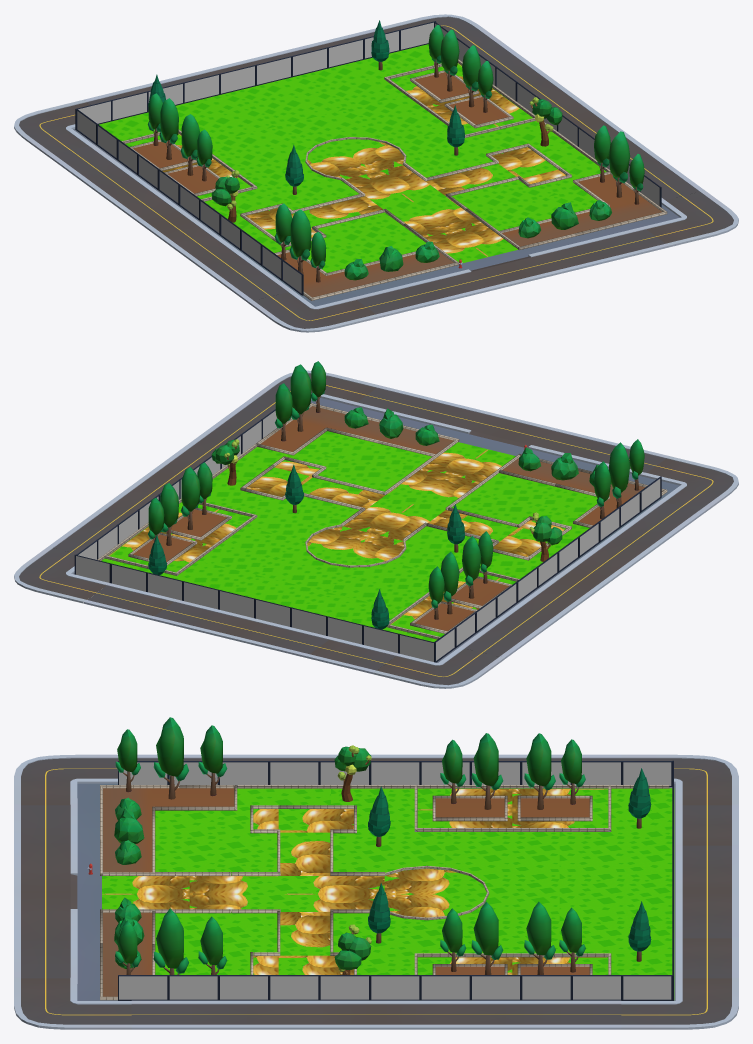
Rendered from landmap1-eiffel.fbx.
3 views of the same model, one above another, from view 1: azimuth 30°, elevation 25°; view 2: azimuth 150°, elevation 25°; view 3: azimuth 270°, elevation 25° (orthographic). The views are drawn at different scales.
Visible parts, largest first — view 1: landmap1; view 2: landmap1; view 3: landmap1.
Part boxes in pixels (x1,y1,x2,y2): landmap1: (14, 14, 738, 332); landmap1: (14, 361, 738, 688); landmap1: (14, 717, 738, 1029).
Size of the model in its own units: 7106 by 1037 by 7981.
